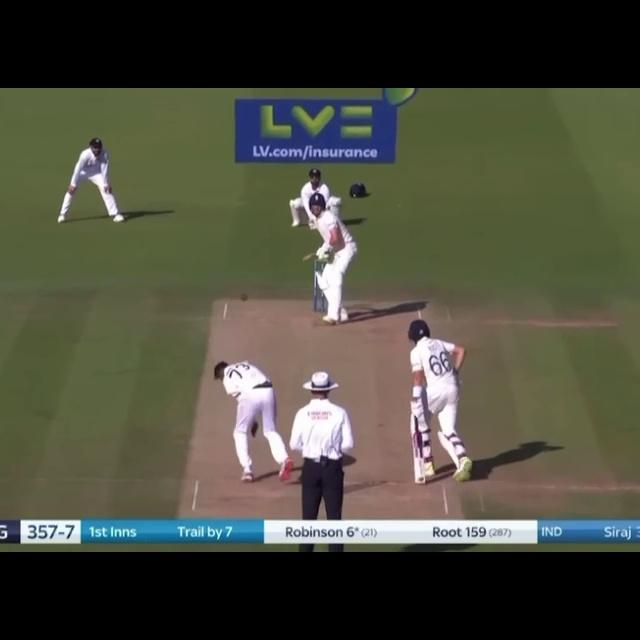umpire: (284, 364, 352, 549)
